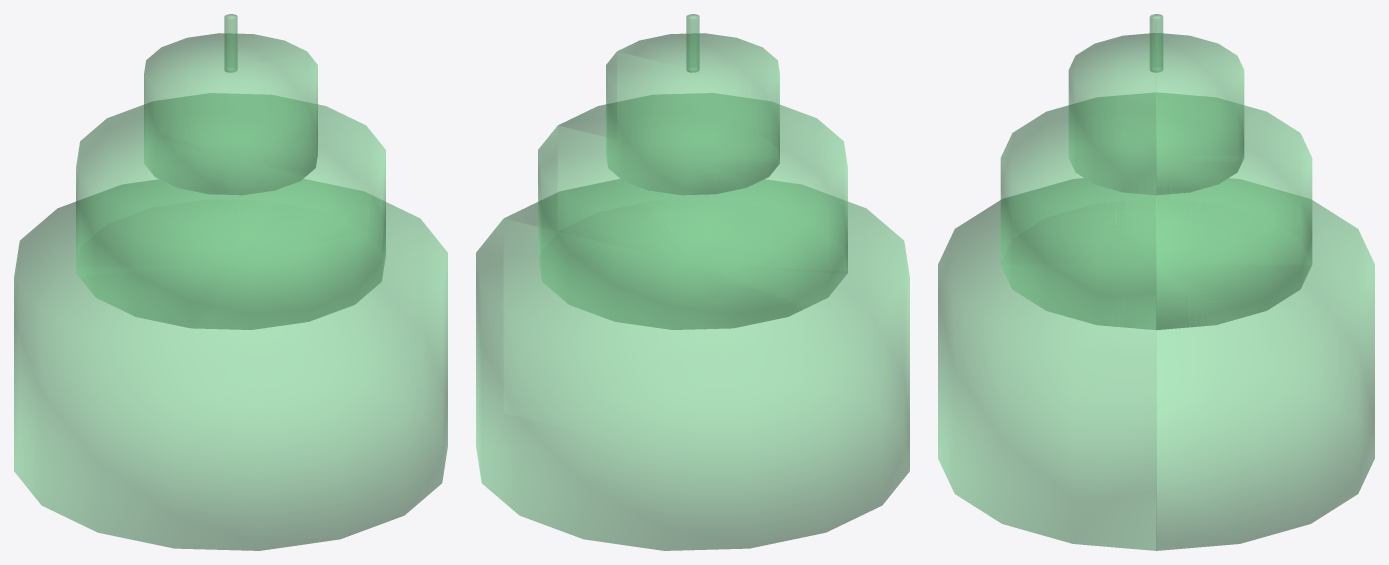
Rendered from prop_haystack_col.glb.
3 renders of one model, left to right at view 1: azimuth 30°, elevation 25°; view 2: azimuth 150°, elevation 25°; view 3: azimuth 270°, elevation 25°, orthographic.
Parts seen in each view (by area): view 1: prop_haystack_col_0, prop_haystack_col_1, prop_haystack_col_2, prop_haystack_col_3; view 2: prop_haystack_col_0, prop_haystack_col_1, prop_haystack_col_2, prop_haystack_col_3; view 3: prop_haystack_col_0, prop_haystack_col_1, prop_haystack_col_2, prop_haystack_col_3.
Part boxes in pixels (x1,y1,x2,y2): prop_haystack_col_0: [14, 179, 447, 550]; prop_haystack_col_1: [76, 93, 385, 329]; prop_haystack_col_2: [144, 33, 317, 195]; prop_haystack_col_3: [224, 14, 237, 72]; prop_haystack_col_0: [476, 179, 909, 550]; prop_haystack_col_1: [538, 93, 847, 329]; prop_haystack_col_2: [606, 33, 779, 195]; prop_haystack_col_3: [686, 14, 699, 72]; prop_haystack_col_0: [938, 178, 1374, 550]; prop_haystack_col_1: [1000, 92, 1312, 330]; prop_haystack_col_2: [1068, 33, 1244, 195]; prop_haystack_col_3: [1149, 14, 1163, 72].
Bounding box in the file's own units: 2.24 × 2.5 × 2.24.
